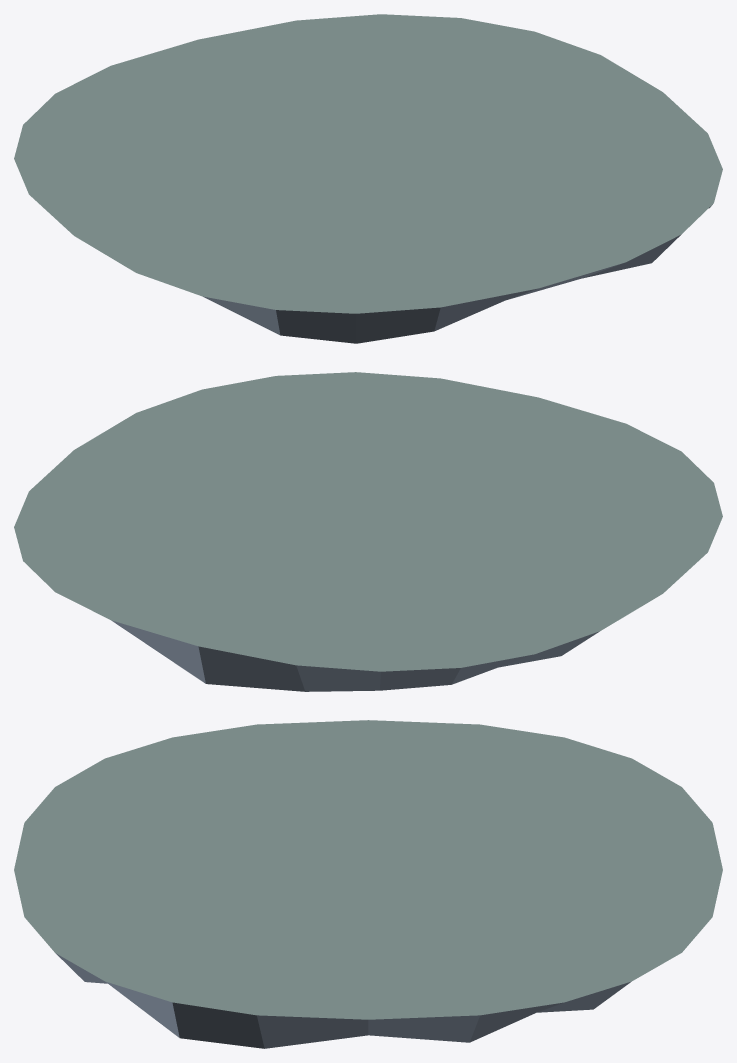
The model's file is Island_Frag_04.glb.
The picture shows the model from 3 angles, top to bottom: view 1: azimuth 30°, elevation 25°; view 2: azimuth 150°, elevation 25°; view 3: azimuth 270°, elevation 25°; orthographic projection. The views are drawn at different scales.
Parts seen in each view (by area): view 1: Island_Frag_04; view 2: Island_Frag_04; view 3: Island_Frag_04.
Boxes of the visible parts, x1=… form: Island_Frag_04: x1=14, y1=14, x2=722, y2=343; Island_Frag_04: x1=14, y1=372, x2=722, y2=691; Island_Frag_04: x1=14, y1=720, x2=722, y2=1048.
Size of the model in its own units: 92 by 11.27 by 92.
